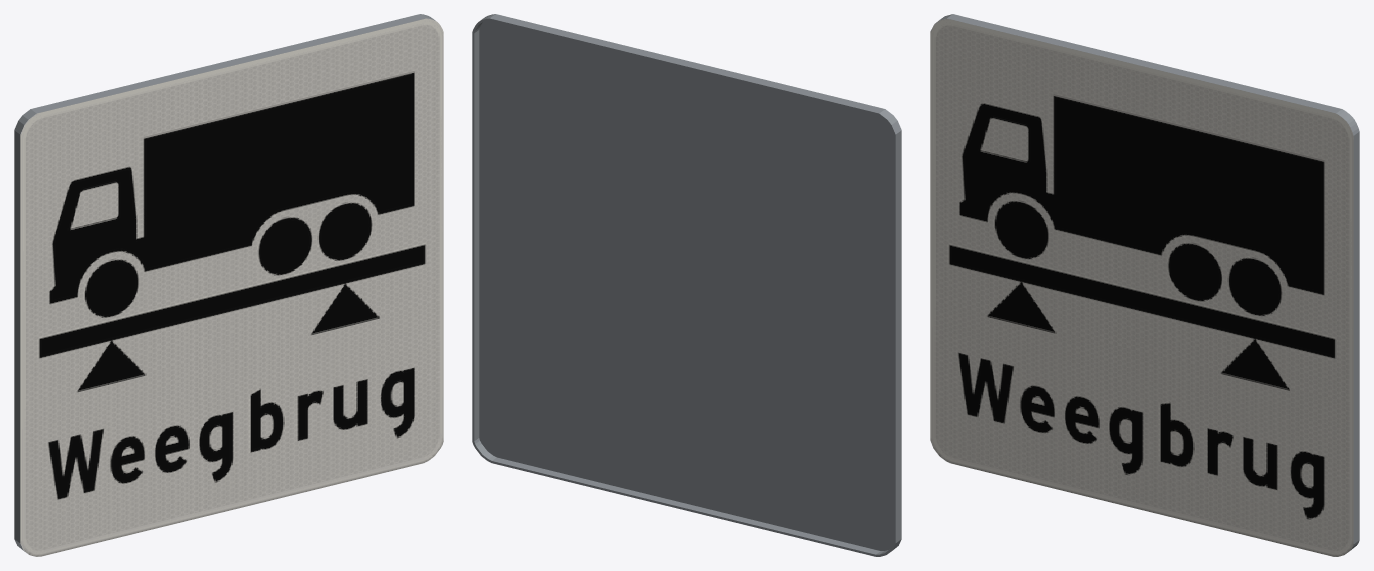
The picture shows the model from 3 angles, left to right: view 1: azimuth 30°, elevation 25°; view 2: azimuth 150°, elevation 25°; view 3: azimuth 330°, elevation 25°; orthographic projection.
Visible parts, largest first — view 1: cat_7eeb239212d7fd84; view 2: cat_7eeb239212d7fd84; view 3: cat_7eeb239212d7fd84.
Boxes of the visible parts, x1,y1,x2,y2 form: cat_7eeb239212d7fd84: (14,14,443,556); cat_7eeb239212d7fd84: (472,14,901,556); cat_7eeb239212d7fd84: (930,14,1359,556).
Bounding box in the file's own units: 0.6 × 0.015 × 0.6015.
2 materials, 1 textured.
